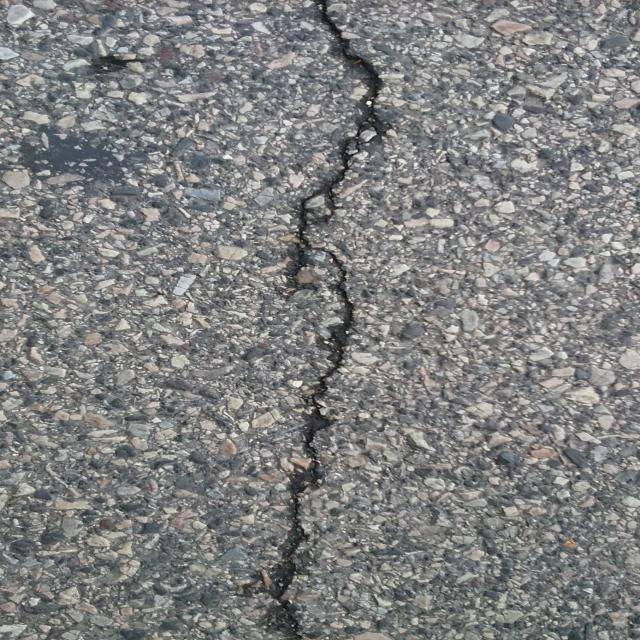Crack: (264, 0, 392, 640)
